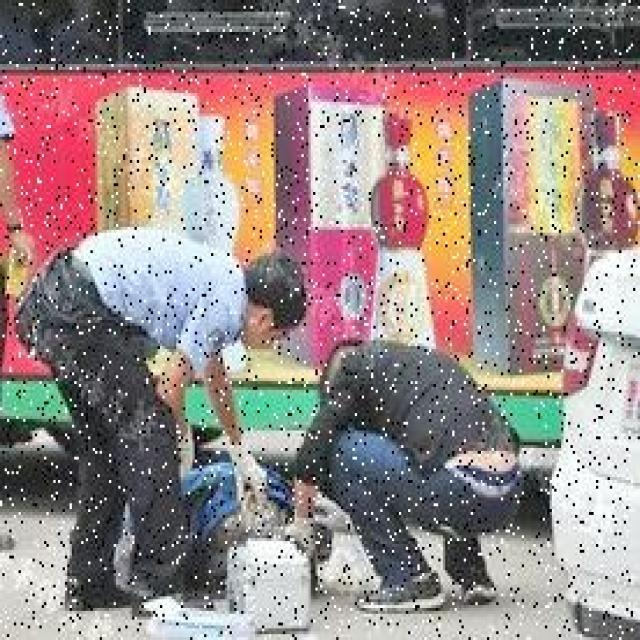fall: (181, 463, 334, 576)
